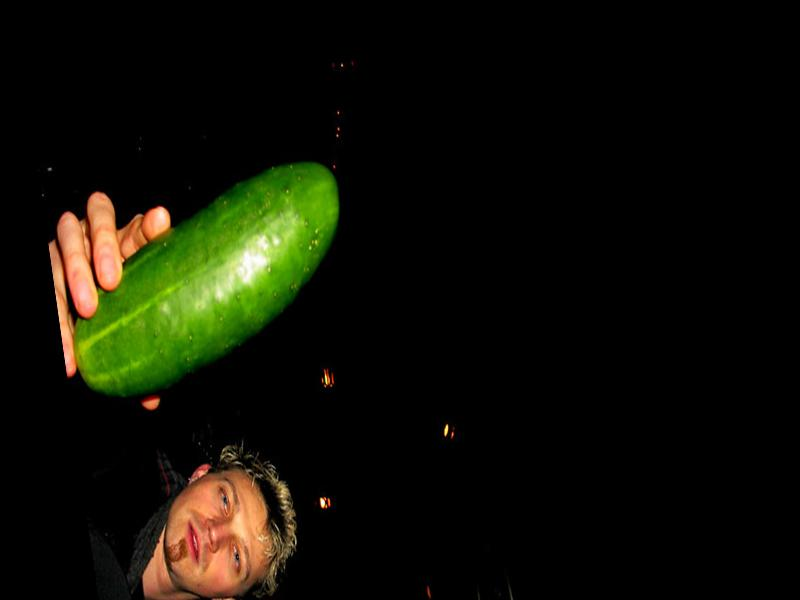Cucumber: (54, 156, 360, 399)
